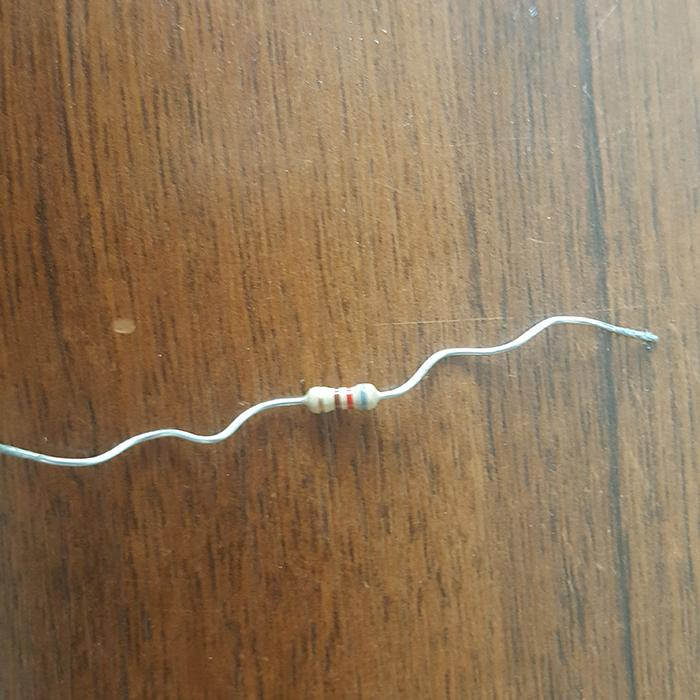resistor: (304, 382, 379, 412)
